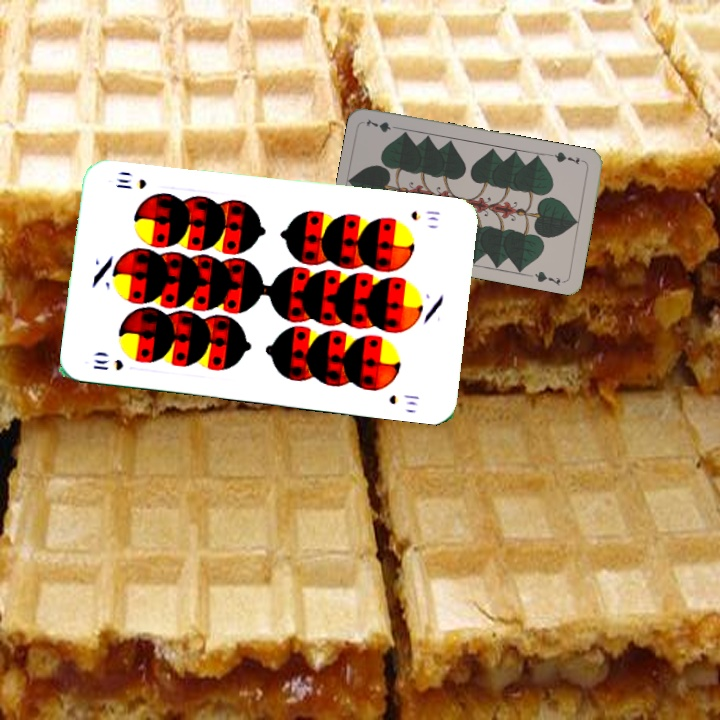G7: (547, 147, 582, 167)
S10: (89, 355, 126, 373), (407, 206, 443, 223)
